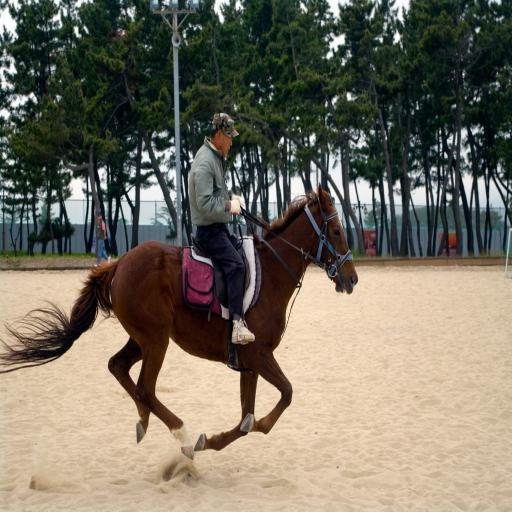horse: (0, 182, 360, 464)
